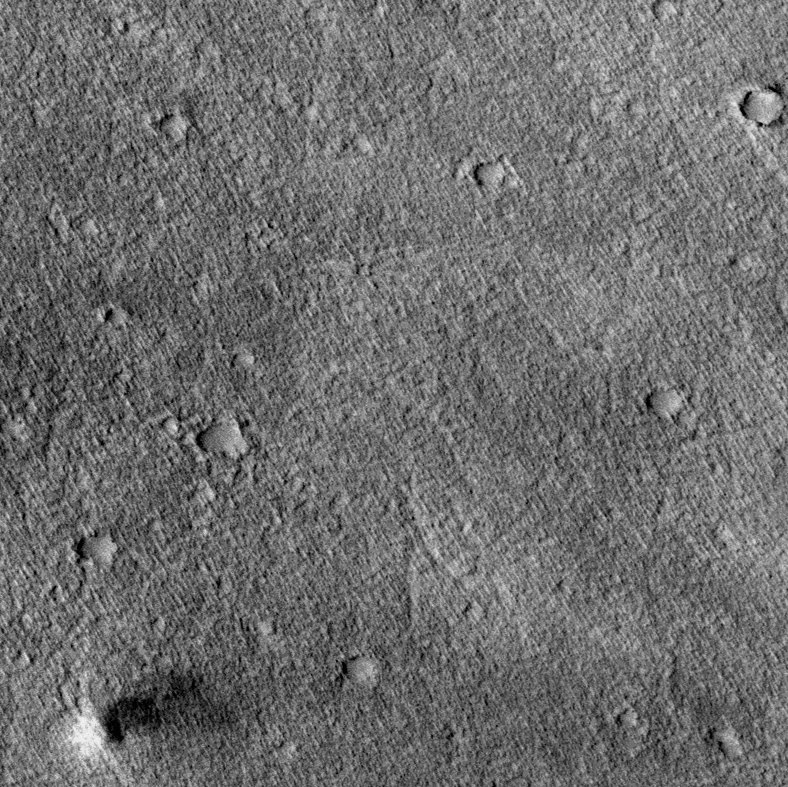dust_devil: (63, 670, 242, 766)
